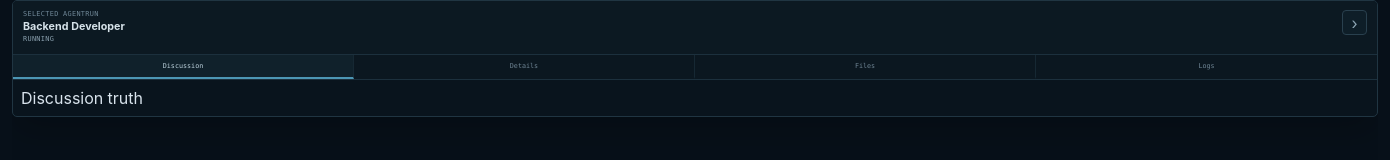
Test case: ContextualOperationsRail › switches between discussion, details, files, and logs without mixing surfaces
Expected: the text "Discussion truth" is shown, [21,88,143,108]
Click the tab "Details" at (524, 67), box [354,55,695,79]
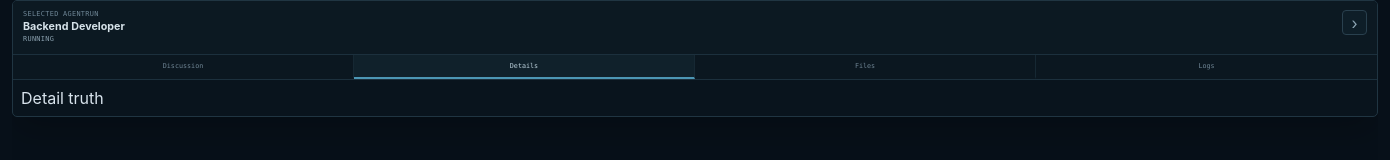
Expected: the text "Detail truth" is shown, [21,88,104,108]
Expected: the text "Discussion truth" is gone
Click the tab "Files" at (866, 67), box [695,55,1036,79]
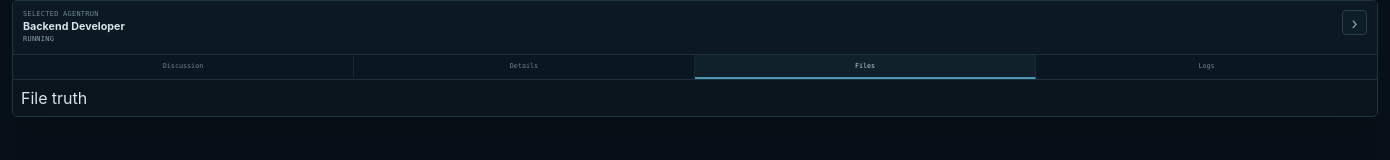
Expected: the text "File truth" is shown, [21,88,87,108]
Click the tab "Logs" at (1206, 67), box [1036,55,1377,79]
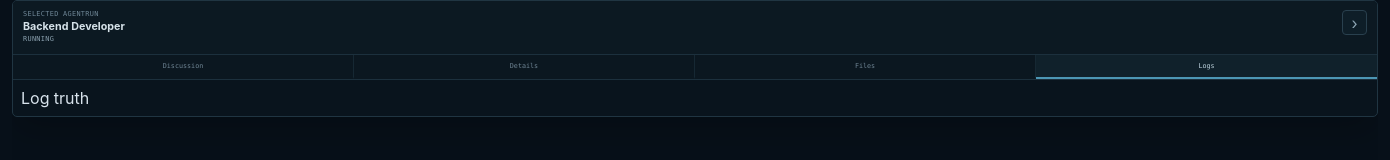
Expected: the text "Log truth" is shown, [21,88,89,108]
